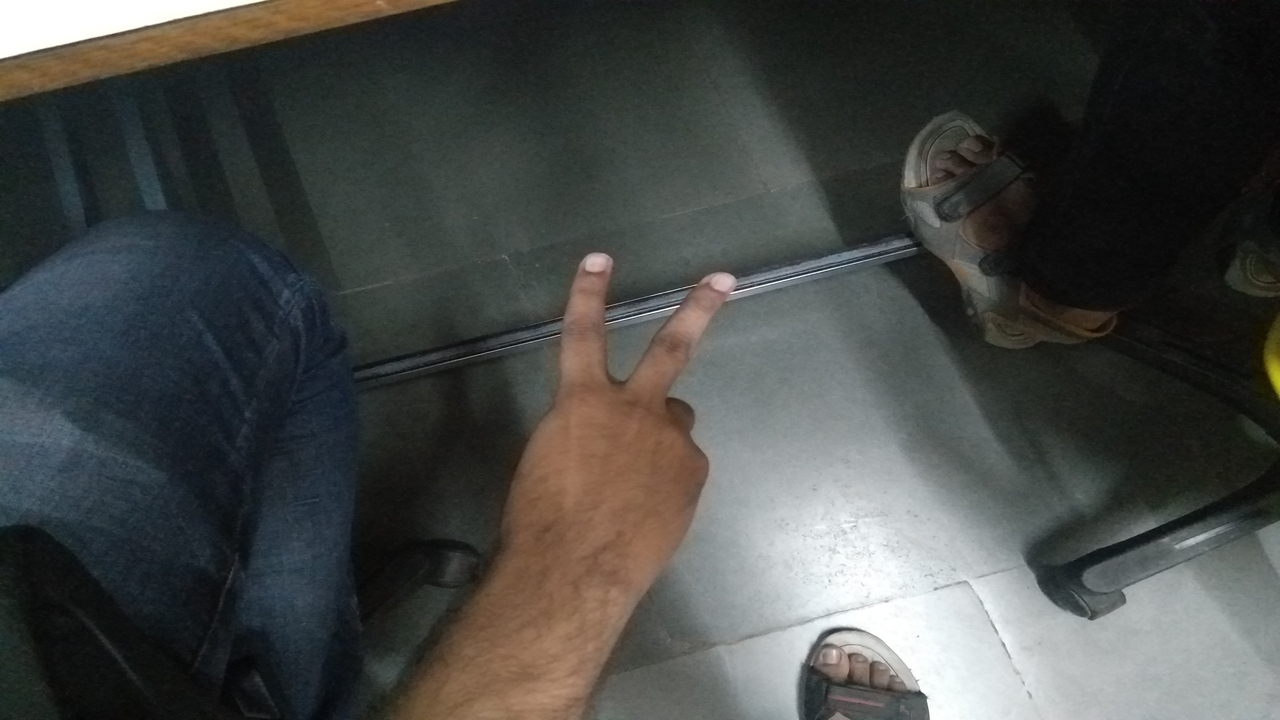fingertip: (682, 258, 748, 312), (568, 242, 620, 284)
